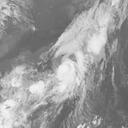cyclone: (54, 57, 82, 87)
